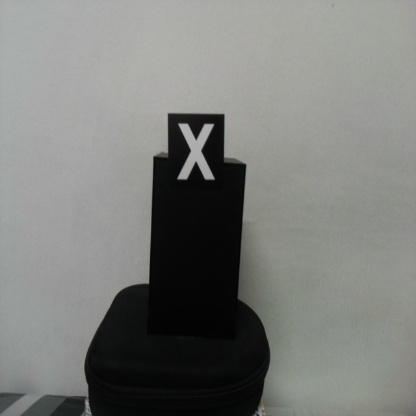id_13: (170, 113, 224, 198)
